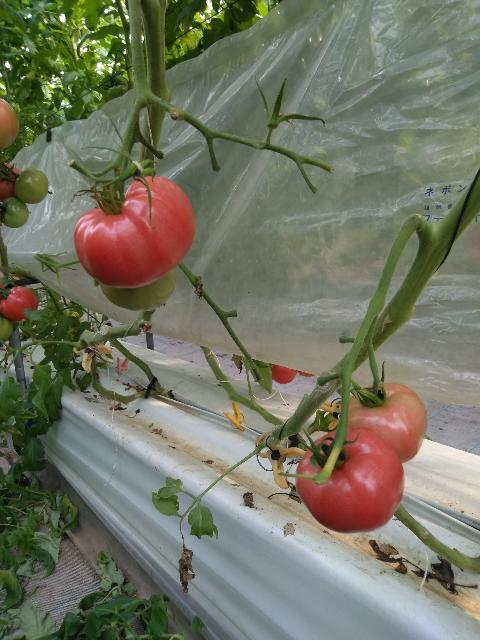b_fully_ripened: (74, 176, 196, 289), (295, 428, 405, 534), (0, 286, 39, 322)
b_green: (98, 268, 177, 312), (15, 167, 49, 205), (0, 197, 29, 229), (0, 318, 14, 341)
b_half_ripened: (347, 383, 428, 464), (0, 97, 20, 150)
